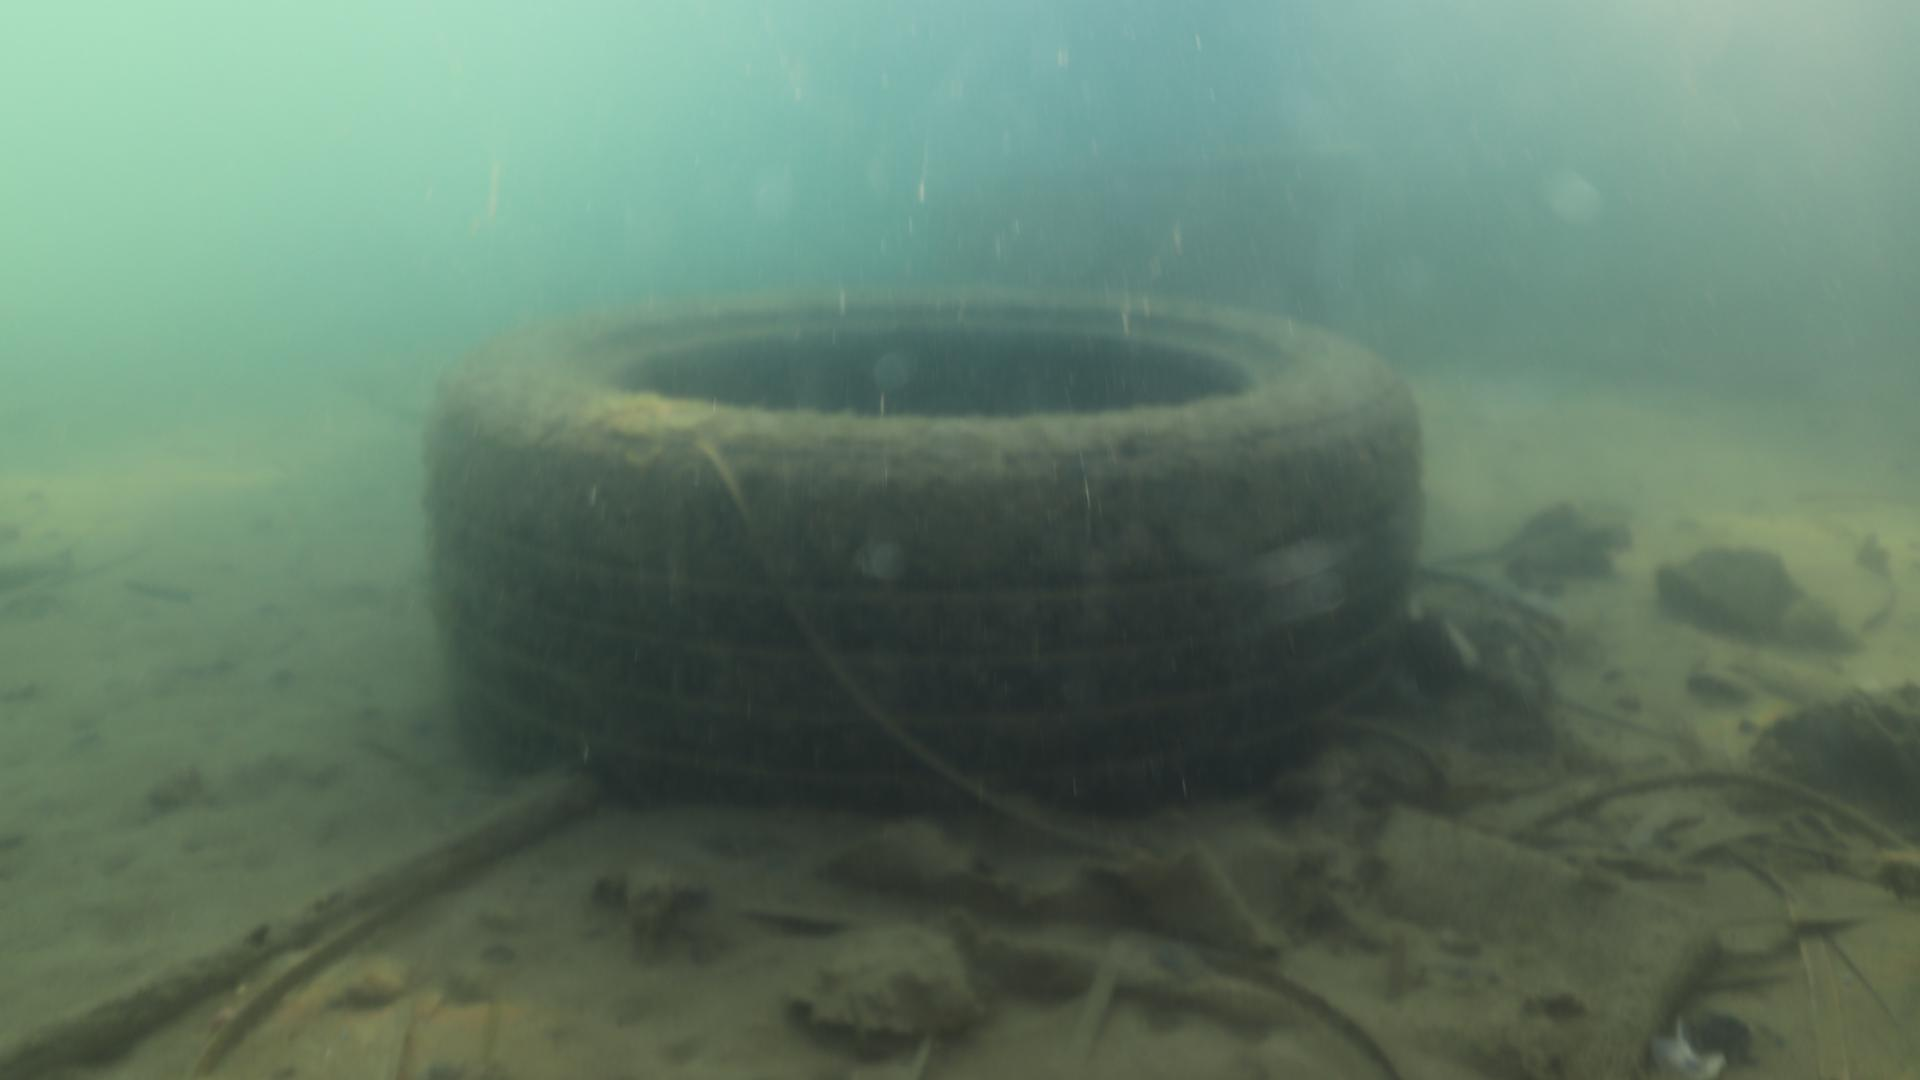tire: (422, 265, 1431, 833)
